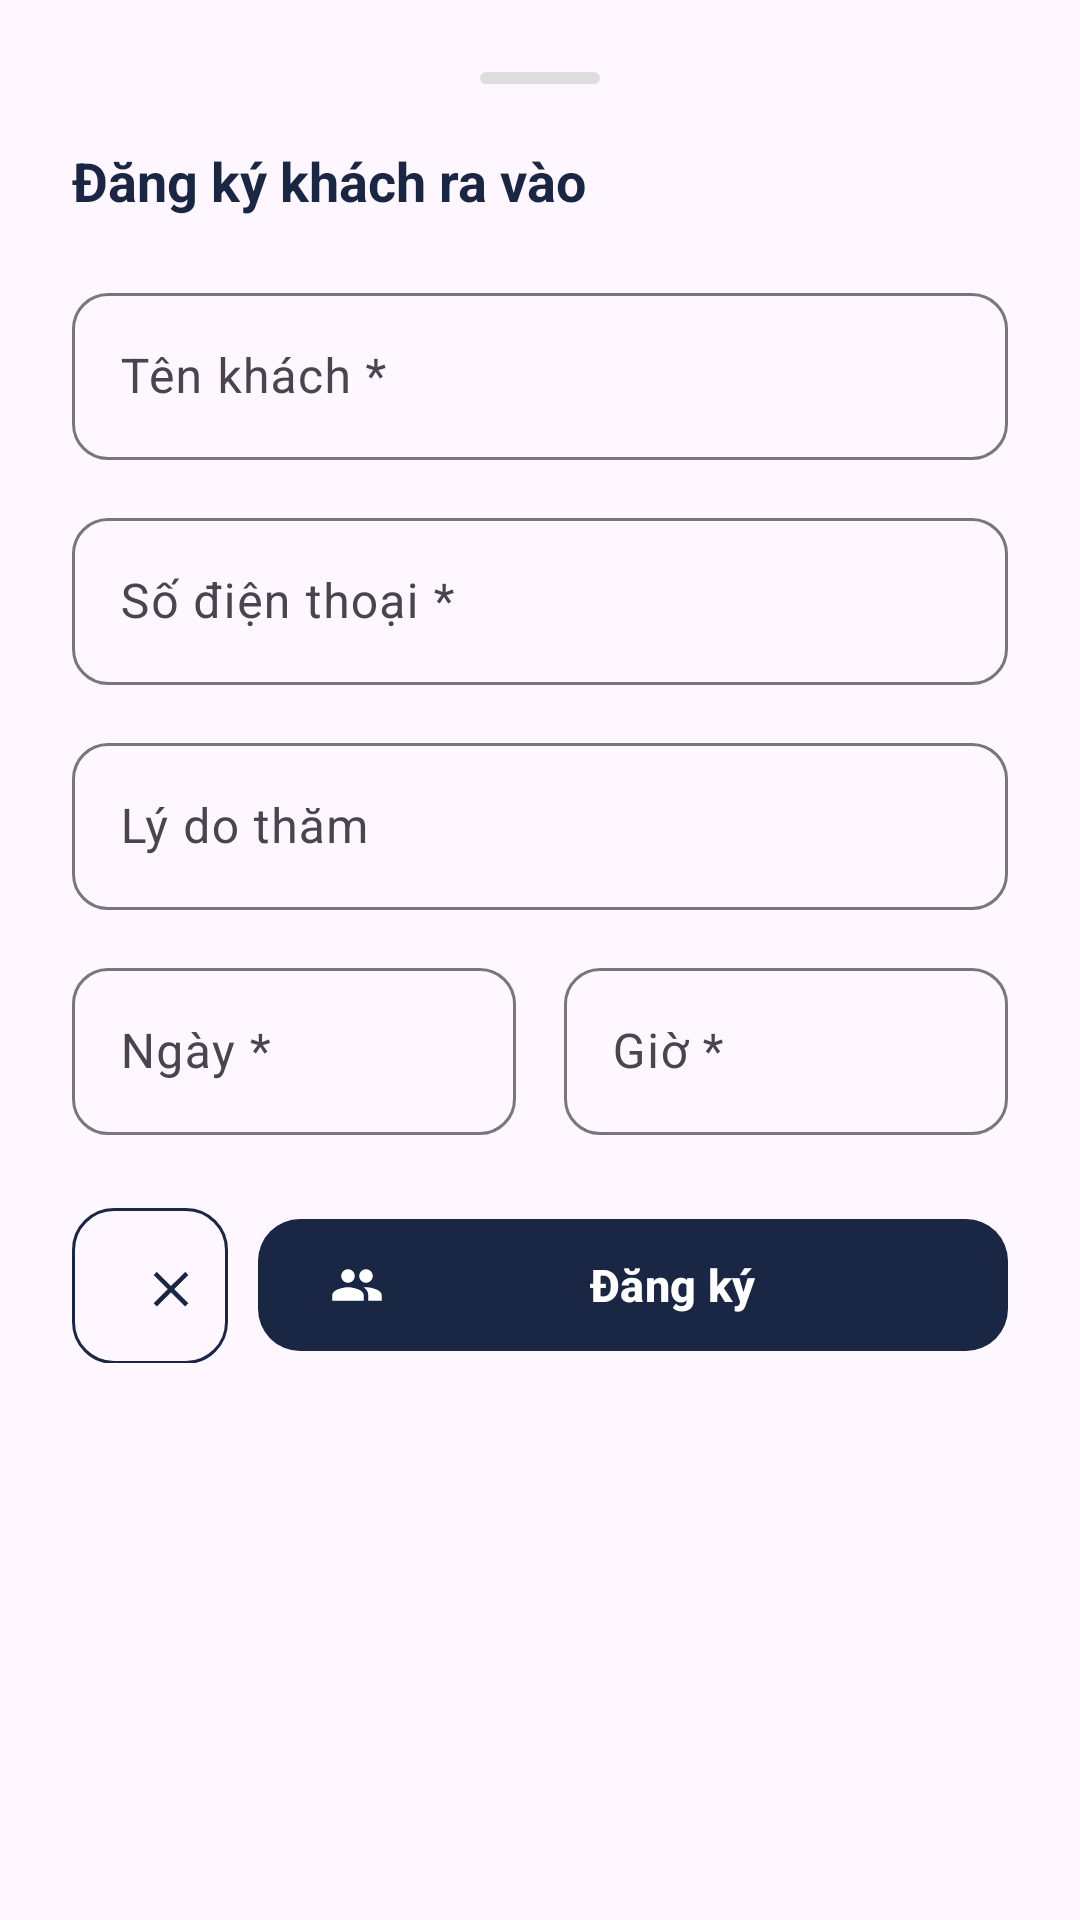

Where to tap for icons on this 1080*1920 app screen, as (x=x, y=y):
close: (x=150, y=1285)
